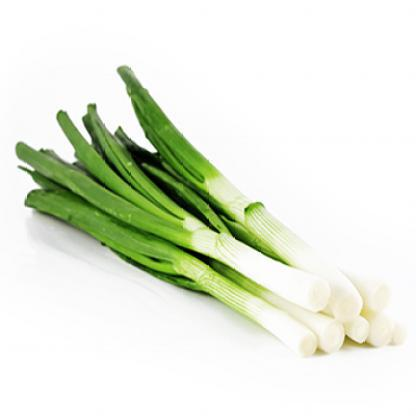green onion: (10, 64, 400, 356)
